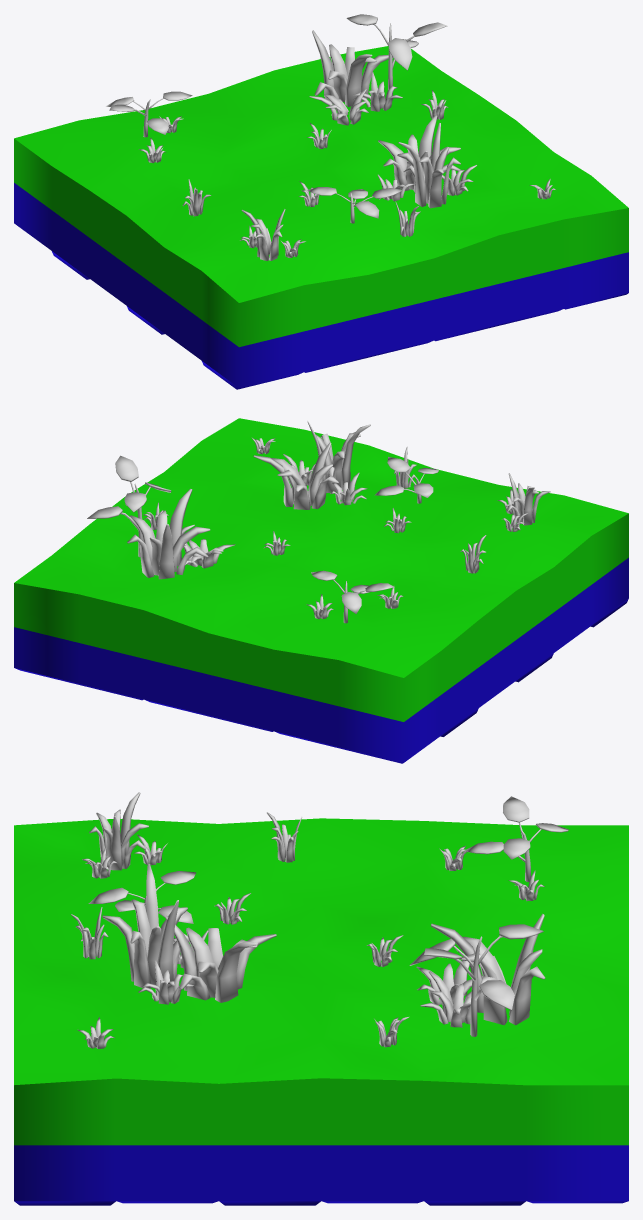
File: FBXtile.fbx
3 views of the same model, one above another, from view 1: azimuth 30°, elevation 25°; view 2: azimuth 150°, elevation 25°; view 3: azimuth 270°, elevation 25° (orthographic). The views are drawn at different scales.
Parts seen in each view (by area): view 1: tile_low; view 2: tile_low; view 3: tile_low.
Boxes of the visible parts, box(x1,y1,x2,y2) form: tile_low: box(14, 14, 628, 389); tile_low: box(14, 418, 628, 763); tile_low: box(14, 792, 628, 1205).
Bounding box in the file's own units: 100 × 41.28 × 100.
